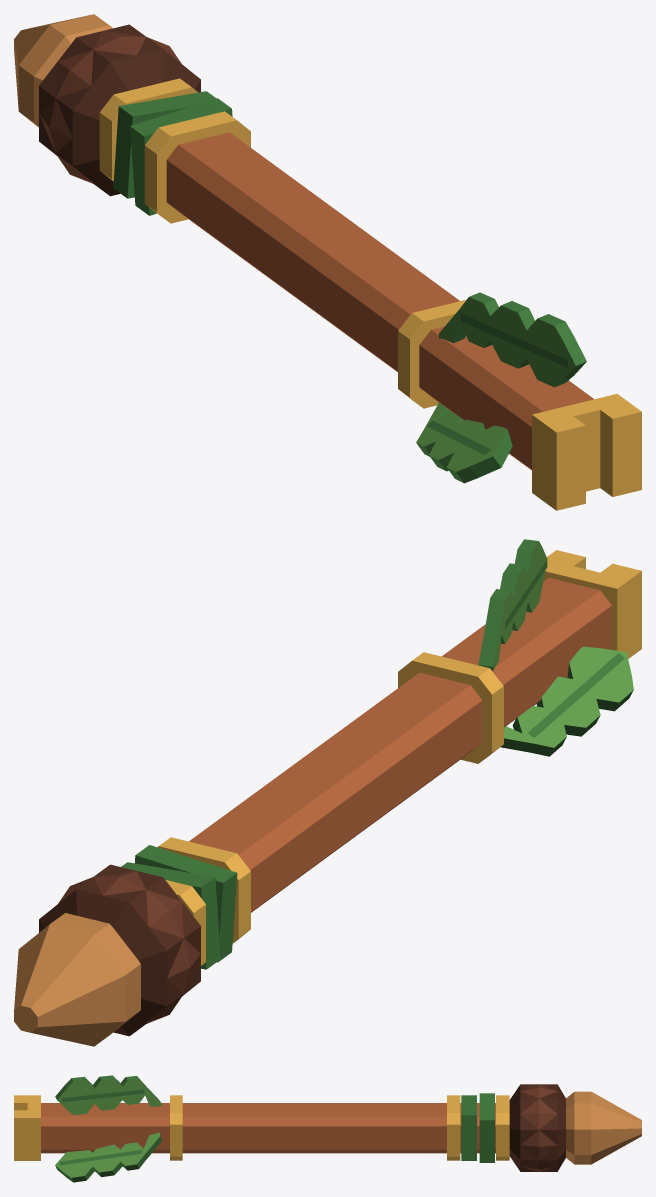
The model's file is AcornArrow.glb.
3 renders of one model, top to bottom at view 1: azimuth 30°, elevation 25°; view 2: azimuth 150°, elevation 25°; view 3: azimuth 270°, elevation 25°, orthographic. The views are drawn at different scales.
Visible parts, largest first — view 1: Shaft, Cap, Nock, Leaf_1_Blade, Leaf_2_Blade, Nut, Collar_Head_A, Collar_Rear, Wrap_B, Collar_Head_B, Wrap_A, Leaf_1_Midrib; view 2: Shaft, Nut, Cap, Leaf_2_Blade, Nock, Leaf_1_Blade, Collar_Rear, Wrap_A, Collar_Head_A, Wrap_B, Leaf_2_Midrib, Collar_Head_B; view 3: Shaft, Cap, Nut, Leaf_1_Blade, Leaf_3_Blade, Nock, Wrap_B, Wrap_A, Collar_Head_A, Collar_Head_B, Collar_Rear, Leaf_1_Midrib (+1 smaller).
Part boxes in pixels (x1,y1,x2,y2): Shaft: (166,132,593,470); Cap: (39,24,200,196); Nock: (532,394,641,510); Leaf_1_Blade: (439,292,586,387); Leaf_2_Blade: (416,402,512,483); Nut: (14,14,112,127); Collar_Head_A: (144,111,250,223); Collar_Rear: (398,299,466,408); Wrap_B: (113,91,216,198); Collar_Head_B: (99,78,198,181); Wrap_A: (130,98,232,215); Leaf_1_Midrib: (460,313,567,367); Shaft: (189,578,611,912); Nut: (14,913,140,1046); Cap: (39,864,200,1036); Leaf_2_Blade: (500,646,633,756); Nock: (543,550,641,658); Leaf_1_Blade: (478,539,547,671); Collar_Rear: (398,652,503,763); Wrap_A: (135,845,237,962); Collar_Head_A: (157,837,250,943); Wrap_B: (121,862,220,969); Leaf_2_Midrib: (528,653,624,738); Collar_Head_B: (165,880,205,965); Shaft: (41,1103,495,1153); Cap: (509,1084,565,1171); Nut: (566,1091,641,1164); Leaf_1_Blade: (55,1075,161,1115); Leaf_3_Blade: (55,1132,161,1182); Nock: (14,1095,40,1160); Wrap_B: (479,1093,494,1162); Wrap_A: (461,1095,476,1160); Collar_Head_A: (447,1095,460,1160); Collar_Head_B: (496,1095,509,1160); Collar_Rear: (170,1095,182,1160); Leaf_1_Midrib: (62,1089,144,1102).
Size of the model in its own units: 0.3178 by 0.302 by 1.86.
